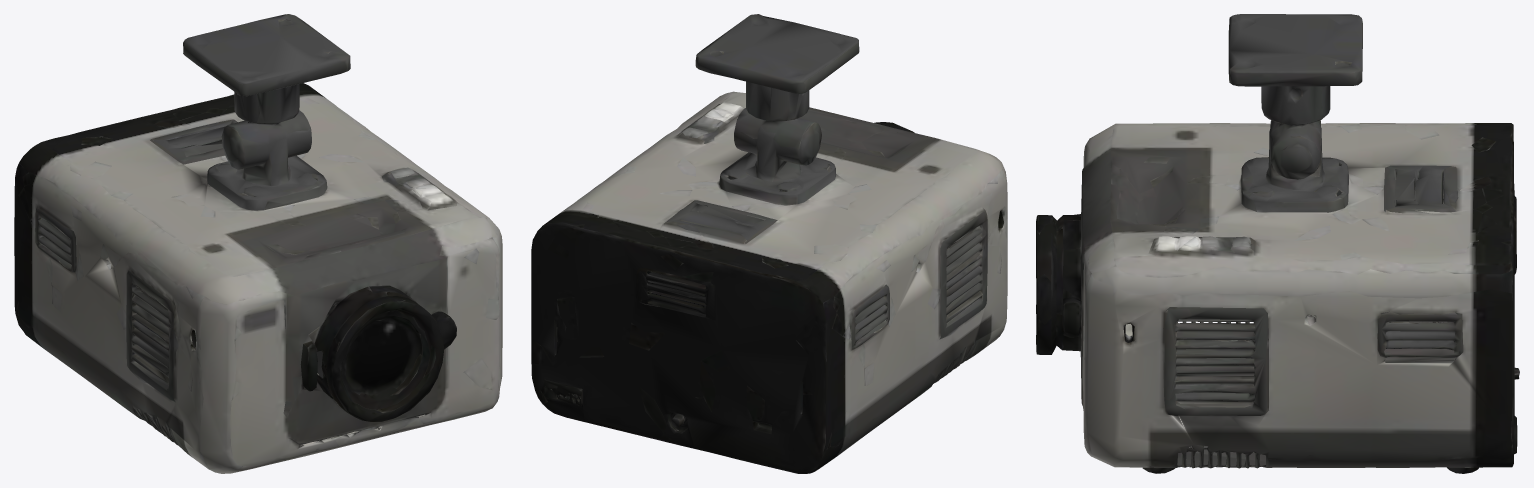
Rendered from projector.glb.
The picture shows the model from 3 angles, left to right: view 1: azimuth 30°, elevation 25°; view 2: azimuth 150°, elevation 25°; view 3: azimuth 270°, elevation 25°; orthographic projection. The views are drawn at different scales.
Parts seen in each view (by area): view 1: geometry_0; view 2: geometry_0; view 3: geometry_0.
Part boxes in pixels (x1,y1,x2,y2): geometry_0: (14, 14, 502, 473); geometry_0: (531, 14, 1007, 473); geometry_0: (1036, 14, 1519, 473).
Size of the model in its own units: 0.7864 by 0.8362 by 0.9934.
Materials: 1 (1 with a texture image).
